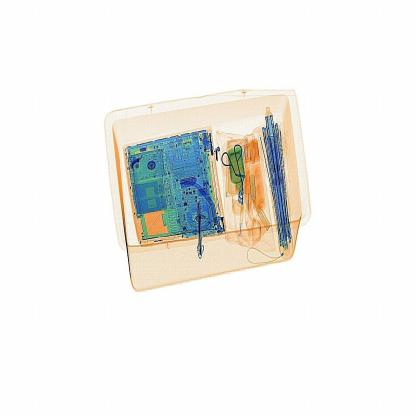knife: (193, 201, 208, 261)
